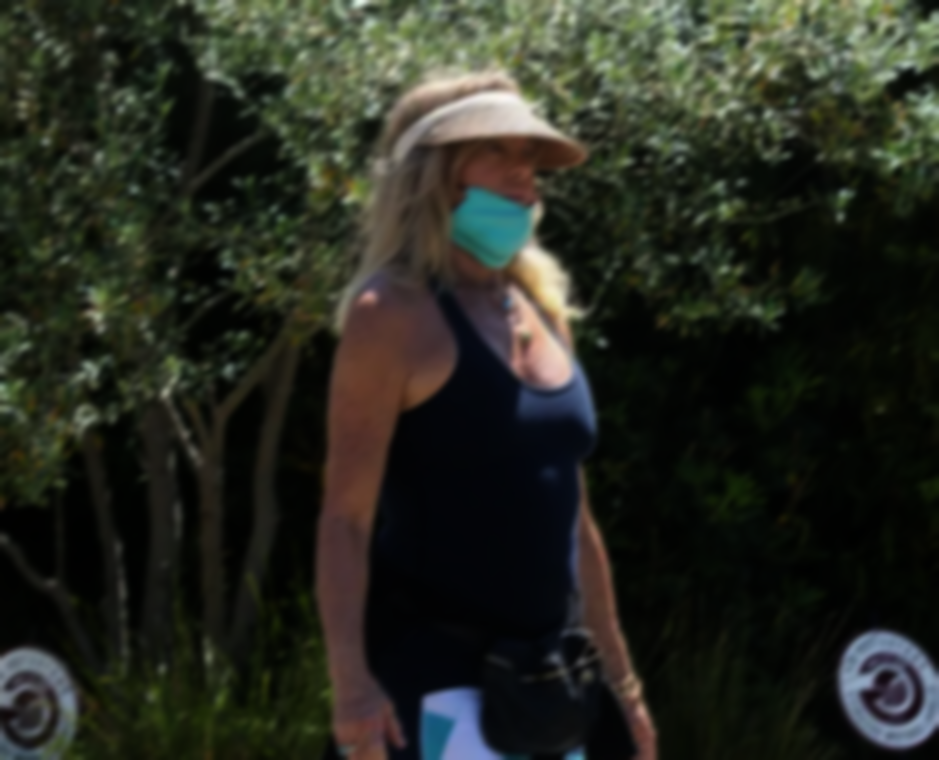mask_weared_incorrect: (382, 72, 578, 275)
